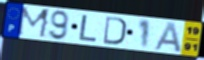1: (136, 20, 150, 50)
9: (49, 9, 70, 41)
A: (153, 21, 184, 53)
D: (102, 16, 127, 47)
L: (78, 14, 99, 43)
M: (16, 6, 52, 40)
